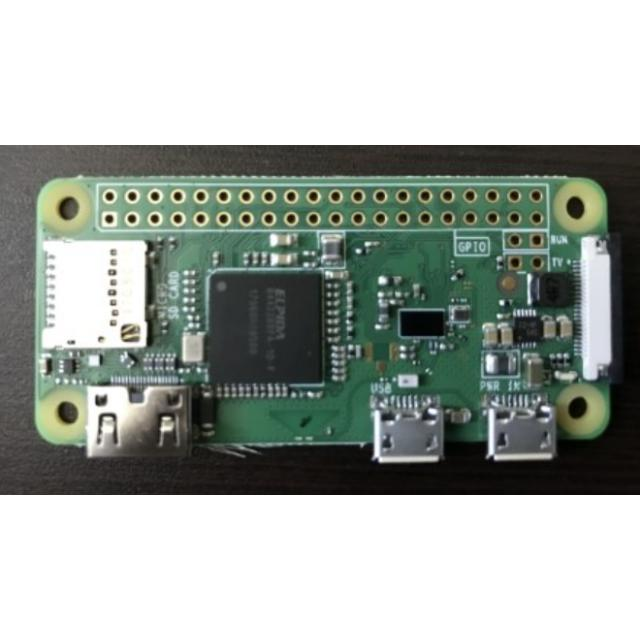Raspberry-Pi-Zero-W: (32, 172, 622, 464)
